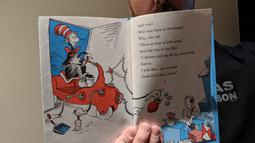text block: (134, 20, 200, 81)
